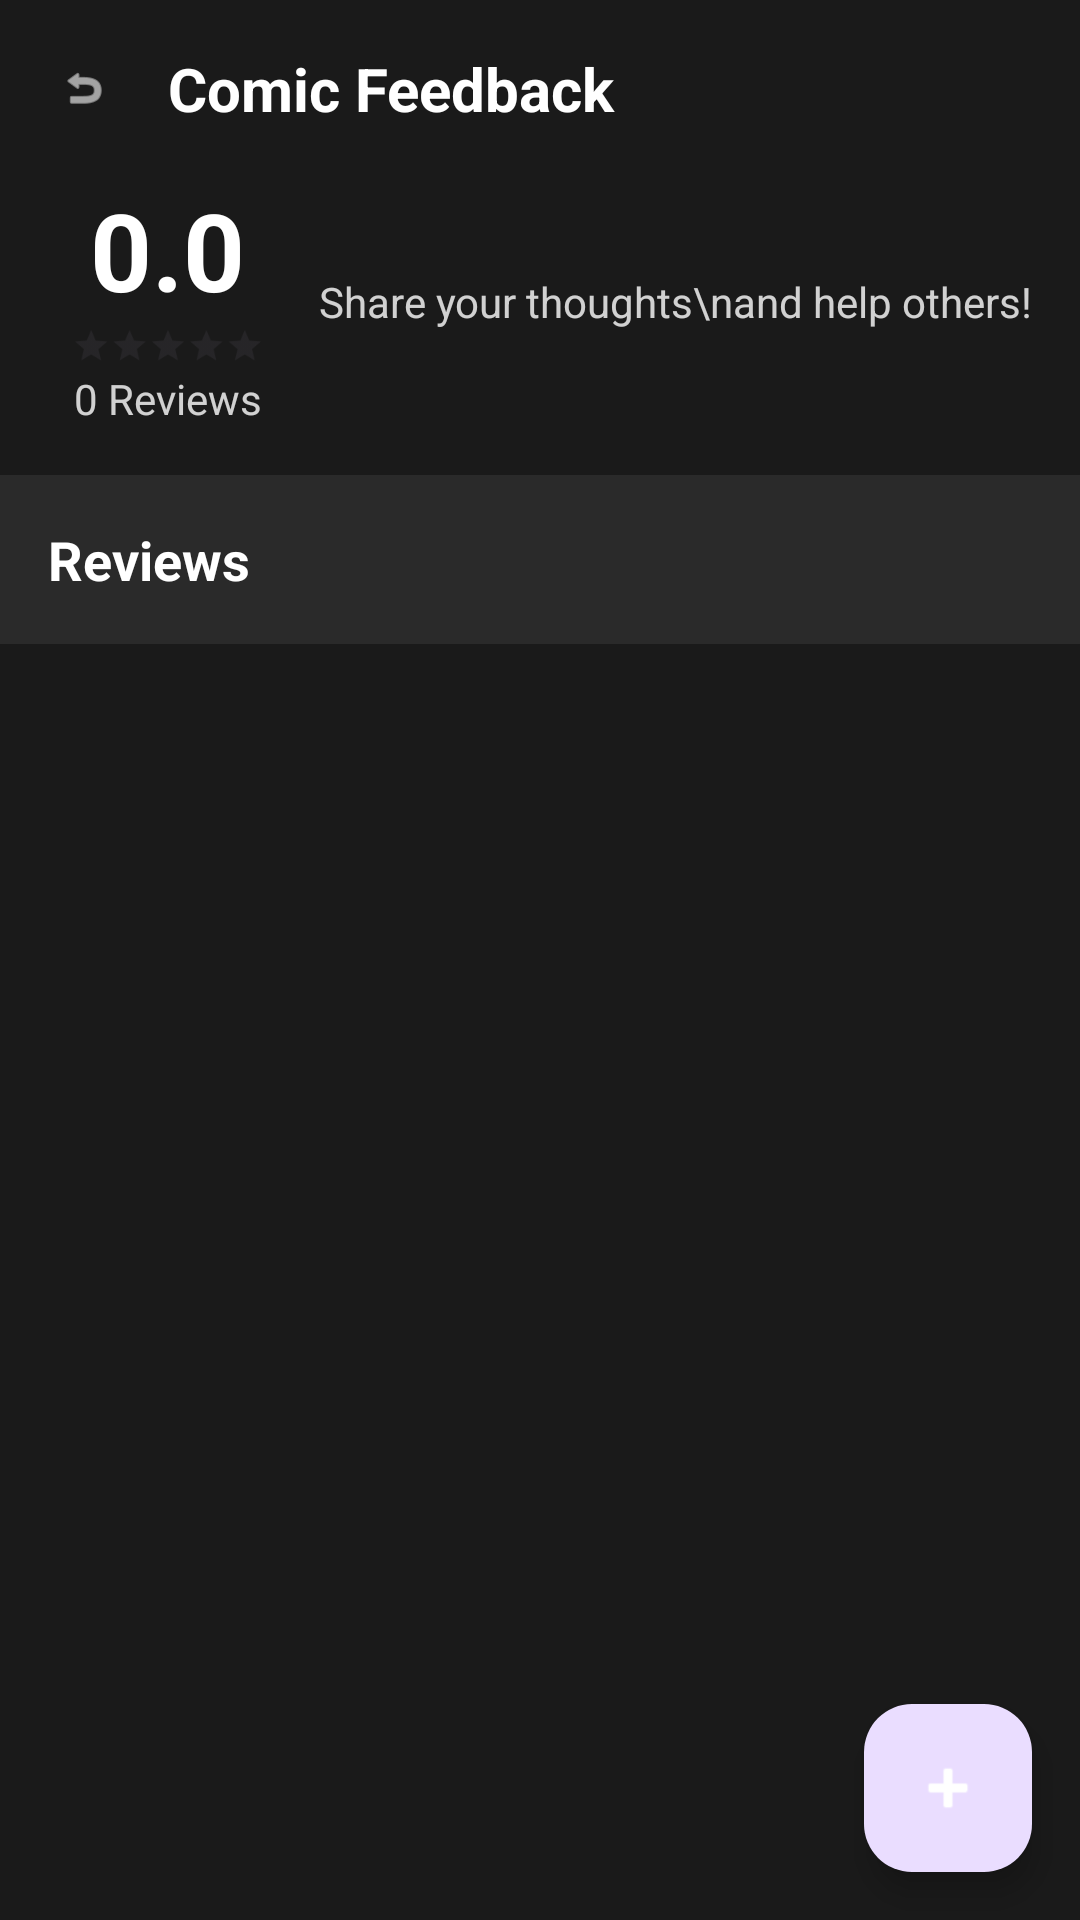

Icons on this 1080px x 1920px Android screen, each with its box as (x1, y1, x2, y2):
Add Feedback: (864, 1704, 1032, 1872)
revert: (67, 73, 102, 104)
